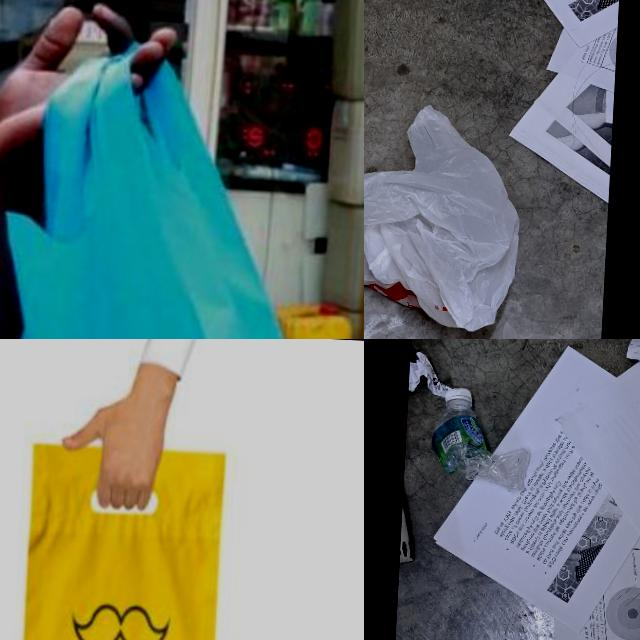garrafa plástica: (430, 399, 533, 494)
papel: (418, 339, 640, 640), (483, 0, 627, 210), (409, 353, 454, 398)
sacola plástica: (0, 60, 364, 339), (0, 430, 245, 640), (364, 97, 527, 335)
tampa plástica: (446, 388, 474, 404)
